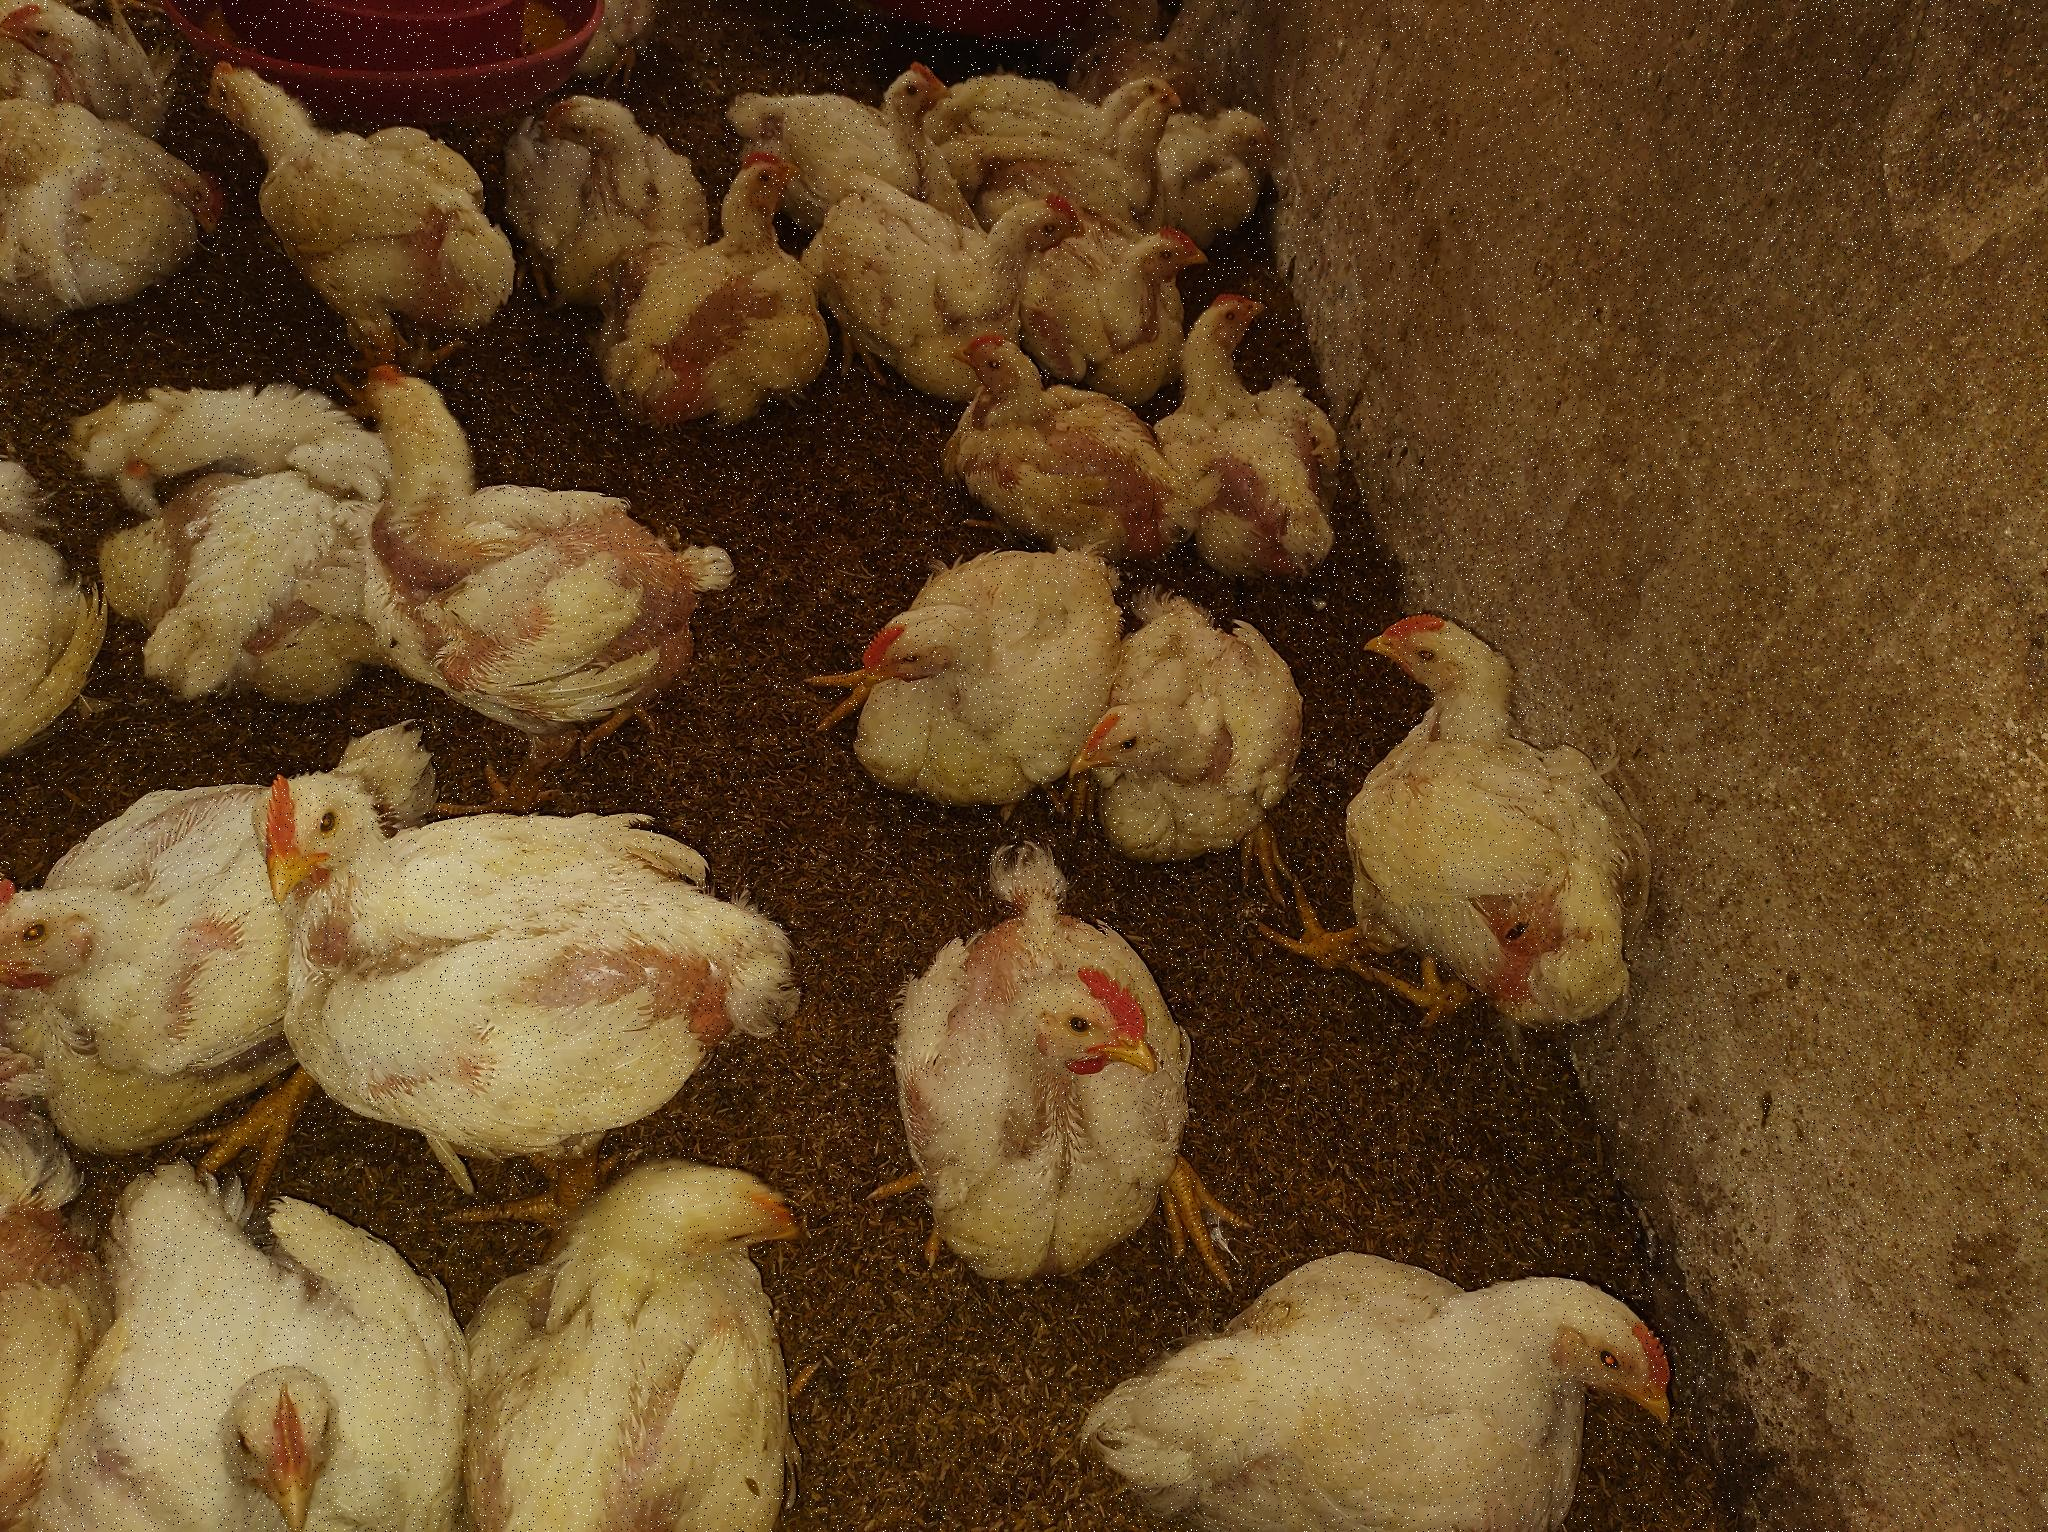Pollos: (245, 747, 785, 1143), (870, 882, 1260, 1308), (1096, 1258, 1676, 1532), (1343, 602, 1683, 1062), (364, 336, 746, 723), (450, 1135, 820, 1532), (88, 1172, 447, 1532), (198, 42, 544, 372), (55, 344, 376, 686), (809, 536, 1088, 855), (2, 777, 269, 1093), (605, 172, 861, 407), (917, 323, 1170, 555), (1083, 607, 1305, 855), (2, 100, 240, 299), (965, 27, 1207, 224), (816, 166, 1063, 348), (1194, 280, 1347, 570), (692, 58, 951, 179), (1084, 212, 1282, 360), (533, 72, 698, 246), (1149, 89, 1293, 188), (2, 2, 137, 92)
